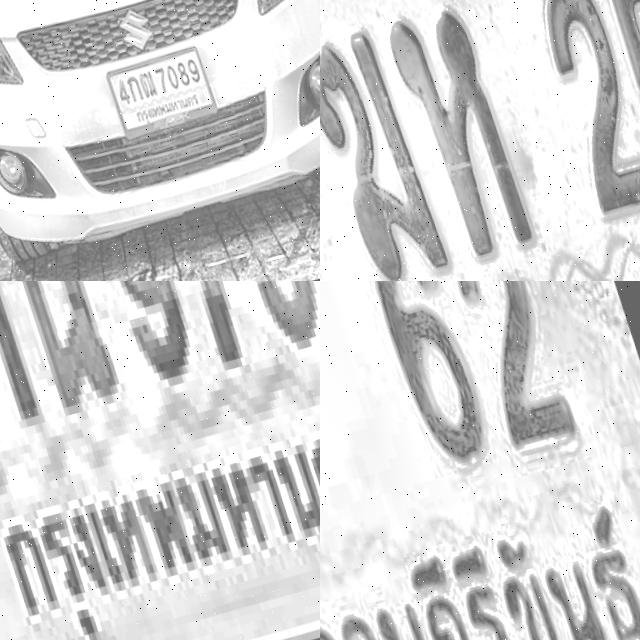license-plate: (0, 281, 320, 640), (320, 281, 640, 640), (320, 0, 640, 281), (94, 46, 215, 145)
